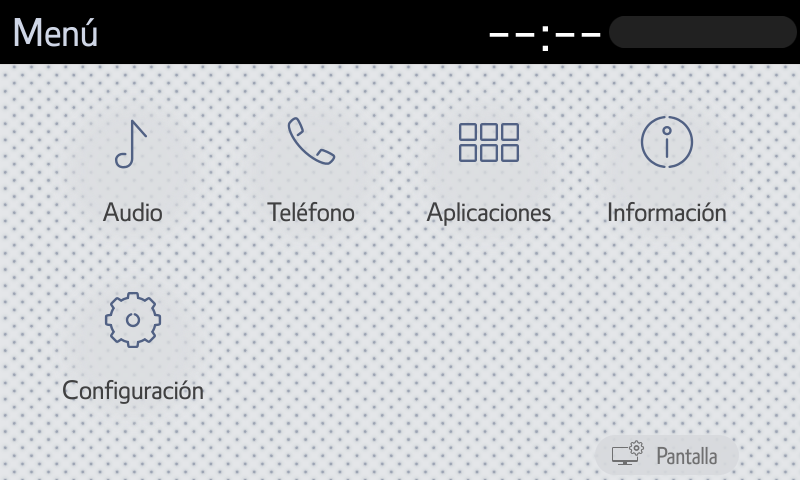touchPart: (46, 280, 212, 416), (603, 109, 747, 230), (249, 103, 378, 234), (418, 116, 553, 223), (77, 109, 190, 230), (589, 430, 741, 476)
untouchPart: (458, 10, 797, 55), (11, 9, 104, 54)
